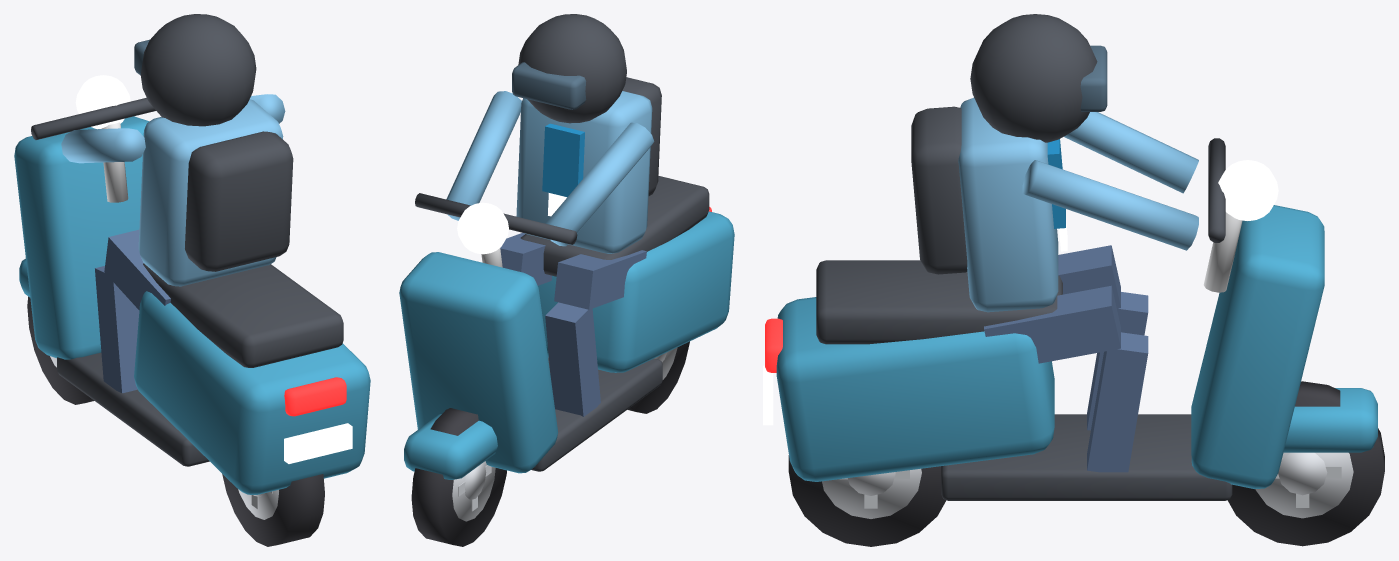
File: commuter_techie.glb
The picture shows the model from 3 angles, left to right: view 1: azimuth 30°, elevation 25°; view 2: azimuth 150°, elevation 25°; view 3: azimuth 270°, elevation 25°; orthographic projection. The views are drawn at different scales.
Visible parts, largest first — view 1: Scooter_Body.003, Wheel_Rear.003, Wheel_Front.004; view 2: Scooter_Body.003, Wheel_Front.004, Wheel_Rear.003; view 3: Scooter_Body.003, Wheel_Front.004, Wheel_Rear.003.
Part boxes in pixels (box(x1,y1,x2,y2)): Scooter_Body.003: box(14, 14, 370, 494); Wheel_Rear.003: box(222, 474, 324, 546); Wheel_Front.004: box(27, 296, 94, 404); Scooter_Body.003: box(399, 14, 734, 479); Wheel_Front.004: box(411, 408, 506, 546); Wheel_Rear.003: box(627, 341, 689, 413); Scooter_Body.003: box(763, 14, 1377, 500); Wheel_Front.004: box(1228, 381, 1384, 546); Wheel_Rear.003: box(788, 455, 946, 546).
Bounding box in the file's own units: 0.6364 × 1.67 × 1.81.
